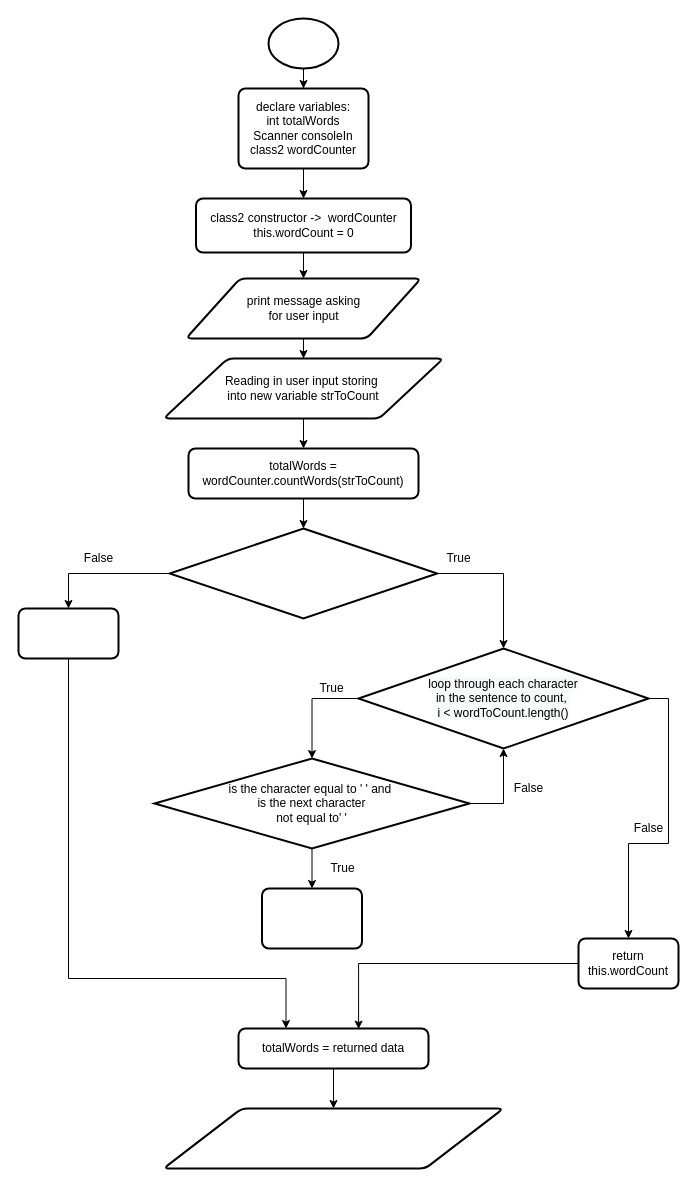
This 696x1186 diagram has some shape labels left out. The shapes that lost their labels are listed below. From the top down, each one's centre as x and y in pixels, then its label:
[303,43]: Start Main()
[303,573]: is strToCount length > 0
[68,633]: return 0
[311,918]: this.wordCount increments by 1
[333,1138]: print out "Total number of words are " + totalWords
